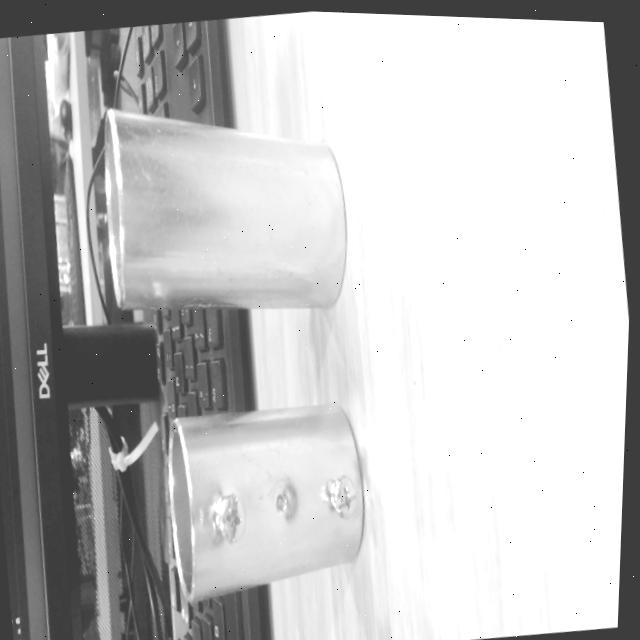Co_Lon: (103, 107, 346, 308)
Co_Nho: (161, 401, 371, 602)
